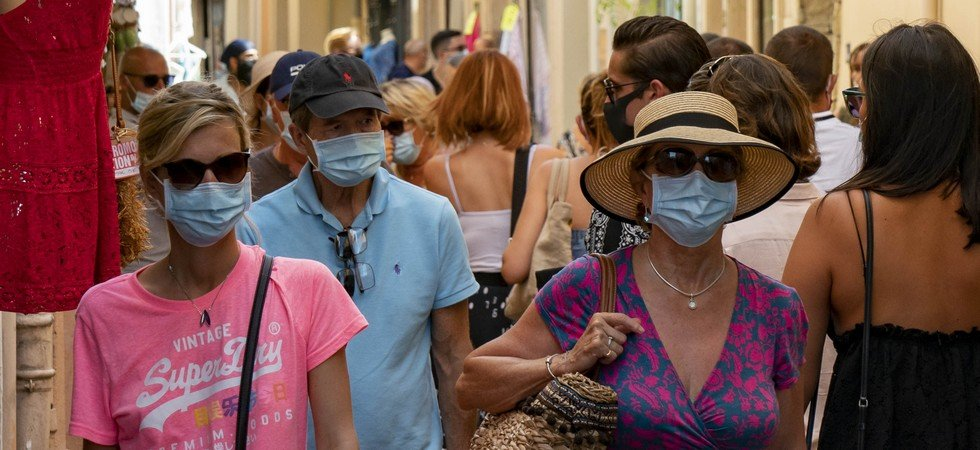with_mask: (152, 125, 265, 253), (642, 138, 739, 252), (295, 103, 395, 190), (592, 55, 663, 143)
